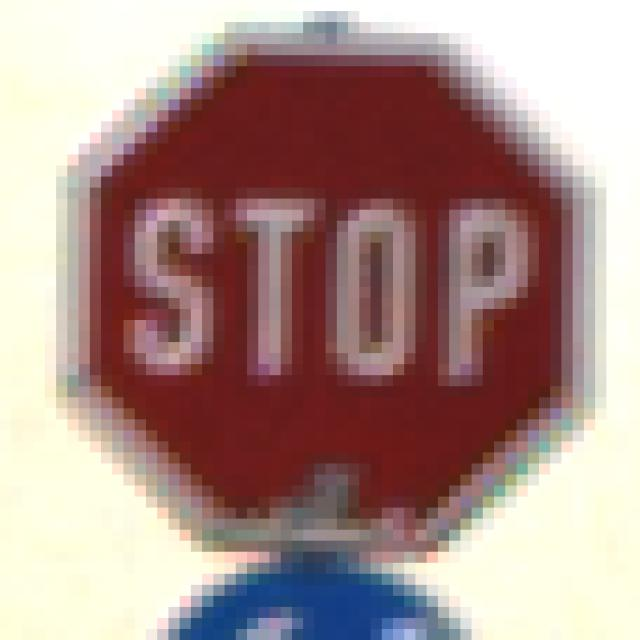STOP: (57, 56, 585, 575)
